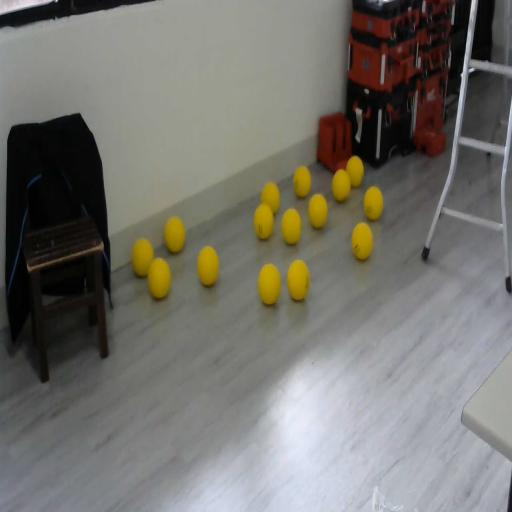FUEL: (257, 262, 282, 306), (196, 244, 220, 286), (350, 221, 374, 261), (286, 260, 310, 300), (131, 236, 154, 277), (148, 258, 171, 298), (163, 215, 186, 254), (281, 207, 301, 245), (260, 180, 281, 216), (308, 193, 328, 229), (364, 186, 384, 220), (332, 168, 351, 202), (346, 155, 364, 187), (293, 165, 311, 197)
